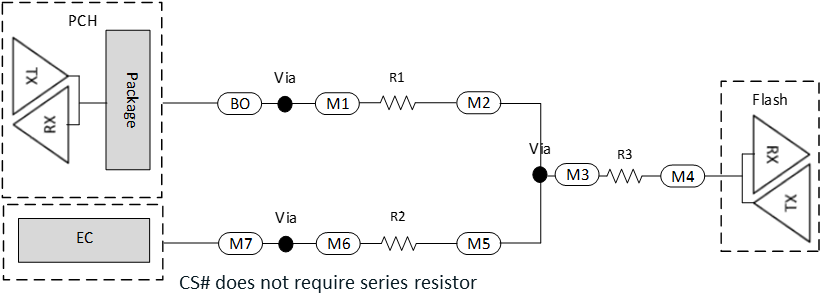circle: (530, 163, 551, 186), (274, 94, 296, 115), (276, 233, 296, 254)
dotted_rectangle: (1, 1, 168, 202), (716, 76, 822, 258), (1, 201, 167, 284)
oval: (311, 87, 363, 119), (453, 229, 505, 259), (214, 89, 267, 118), (552, 161, 601, 190), (452, 88, 504, 115), (658, 163, 709, 190), (216, 229, 266, 256), (314, 230, 364, 257)
rectangle: (101, 26, 154, 174), (15, 216, 153, 266)
resistor: (376, 231, 424, 255), (378, 93, 419, 113), (604, 167, 646, 186)
triangle: (749, 159, 815, 247), (749, 112, 811, 197), (11, 83, 74, 166), (9, 34, 71, 118)
